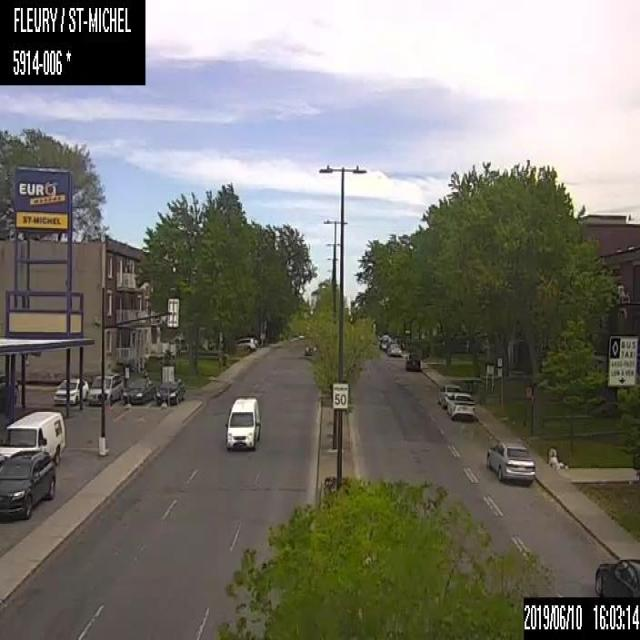vehicle: (0, 448, 55, 519), (0, 410, 65, 466), (486, 440, 535, 481), (224, 395, 260, 449), (593, 556, 639, 596), (87, 373, 123, 406), (53, 377, 89, 404), (444, 391, 474, 420), (122, 378, 156, 403), (155, 378, 184, 404), (435, 383, 461, 408), (235, 337, 258, 352), (405, 350, 421, 370), (386, 342, 401, 356), (378, 334, 391, 349), (304, 340, 316, 355)
